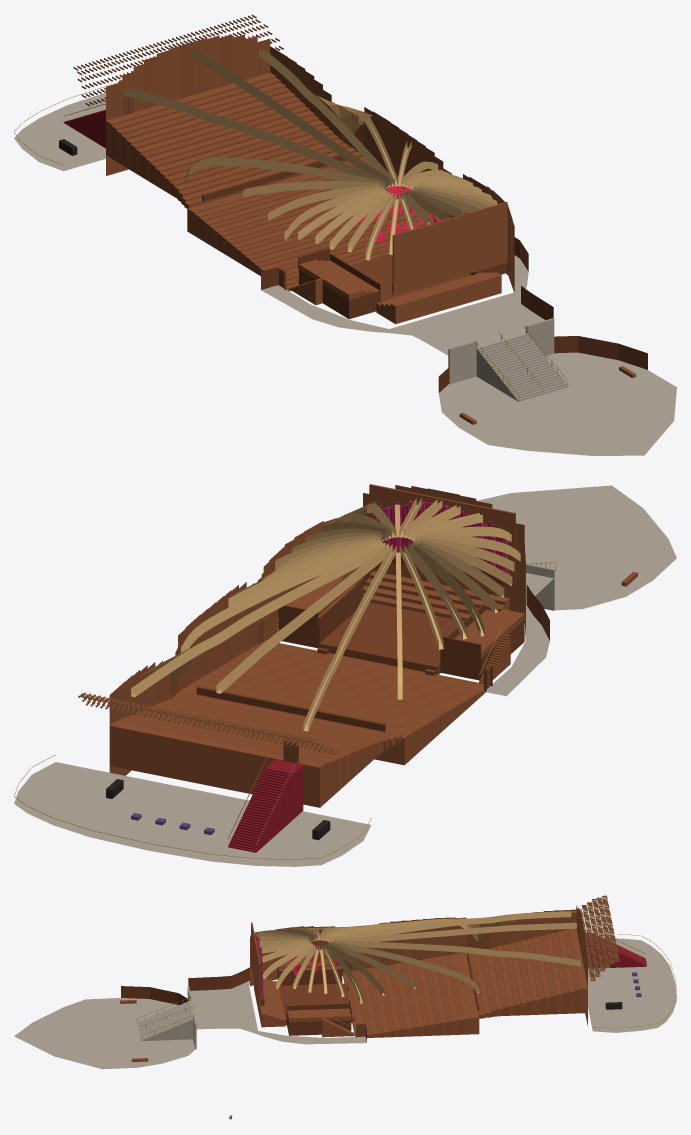
Rendered from opera-house-ch.glb.
3 renders of one model, top to bottom at view 1: azimuth 30°, elevation 25°; view 2: azimuth 150°, elevation 25°; view 3: azimuth 270°, elevation 25°, orthographic. The views are drawn at different scales.
Visible parts, largest first — view 1: room_hall-timber, room_hall-boards, room_south-foyer-stone, room_landing-stone, room_north-foyer-stone, room_south-foyer-timber, room_north-foyer-timber, room_landing-timber, room_north-foyer-fabric; view 2: room_hall-boards, room_hall-timber, room_north-foyer-stone, room_south-foyer-stone, room_north-foyer-fabric, room_landing-stone, room_north-foyer-timber, room_hall-paint; view 3: room_hall-boards, room_hall-timber, room_south-foyer-stone, room_north-foyer-stone, room_landing-stone, room_north-foyer-timber, room_north-foyer-fabric, room_south-foyer-timber, room_landing-timber, room_hall-paint.
Part boxes in pixels (x1,y1,x2,y2): room_hall-timber: [106, 34, 514, 319]; room_hall-boards: [106, 72, 501, 324]; room_south-foyer-stone: [439, 333, 676, 455]; room_landing-stone: [261, 255, 554, 384]; room_north-foyer-stone: [14, 92, 105, 171]; room_south-foyer-timber: [438, 336, 647, 424]; room_north-foyer-timber: [64, 14, 283, 116]; room_landing-timber: [261, 237, 553, 319]; room_north-foyer-fabric: [63, 109, 105, 148]; room_hall-boards: [109, 571, 524, 807]; room_hall-timber: [109, 484, 525, 775]; room_north-foyer-stone: [14, 762, 371, 866]; room_south-foyer-stone: [477, 485, 676, 610]; room_north-foyer-fabric: [131, 759, 303, 852]; room_landing-stone: [484, 563, 554, 696]; room_north-foyer-timber: [78, 692, 337, 845]; room_hall-paint: [374, 500, 507, 575]; room_hall-boards: [254, 928, 587, 1037]; room_hall-timber: [250, 905, 587, 1037]; room_south-foyer-stone: [14, 998, 195, 1069]; room_north-foyer-stone: [588, 938, 676, 1032]; room_landing-stone: [187, 980, 366, 1049]; room_north-foyer-timber: [579, 895, 646, 981]; room_north-foyer-fabric: [585, 933, 646, 997]; room_south-foyer-timber: [120, 986, 187, 1061]; room_landing-timber: [188, 967, 366, 1041]; room_hall-paint: [255, 936, 340, 998].
Size of the model in its own units: 43.65 by 31.89 by 121.
